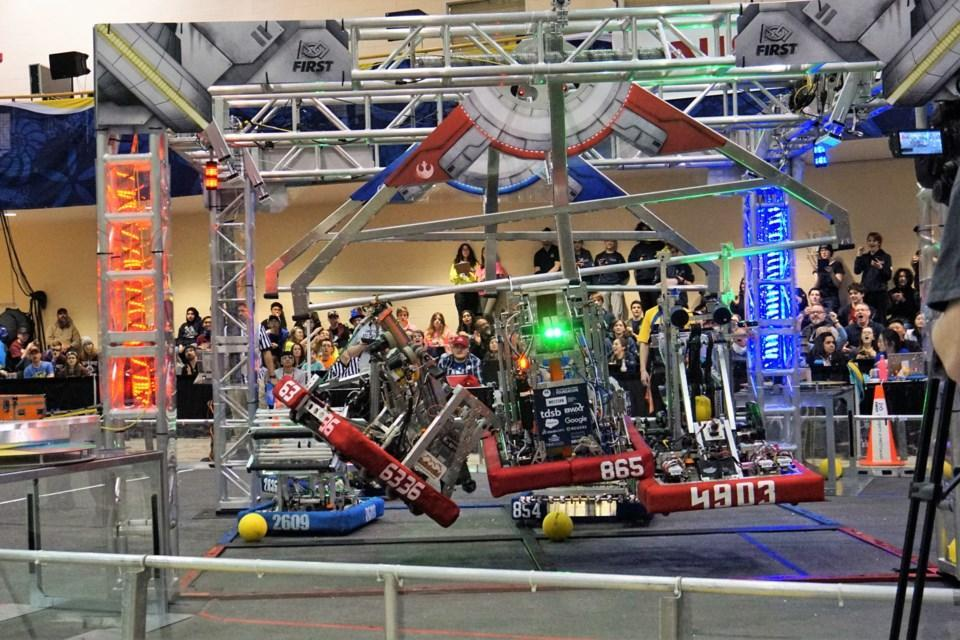robot: (275, 275, 506, 545), (631, 238, 833, 515), (482, 270, 655, 502), (231, 374, 386, 546), (506, 469, 659, 530)
